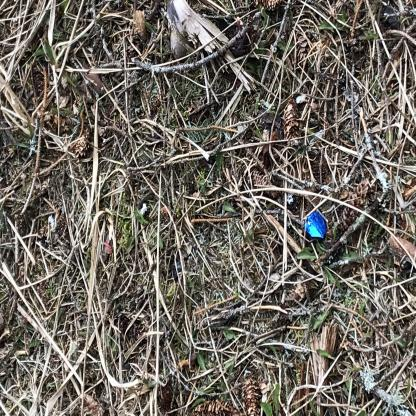trash: (131, 403, 155, 416)
